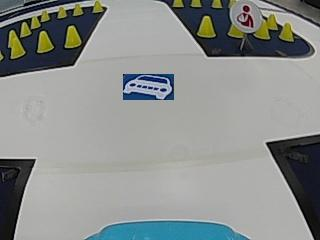cone: (197, 15, 216, 38), (9, 32, 25, 57), (64, 25, 81, 48), (37, 31, 54, 52), (254, 20, 270, 40), (279, 22, 294, 42), (20, 21, 31, 36), (91, 0, 103, 13), (72, 3, 83, 16), (56, 6, 67, 18), (30, 15, 40, 28), (40, 9, 50, 21), (189, 0, 202, 8), (171, 0, 184, 8), (211, 0, 222, 9)
patient: (231, 2, 261, 29)
